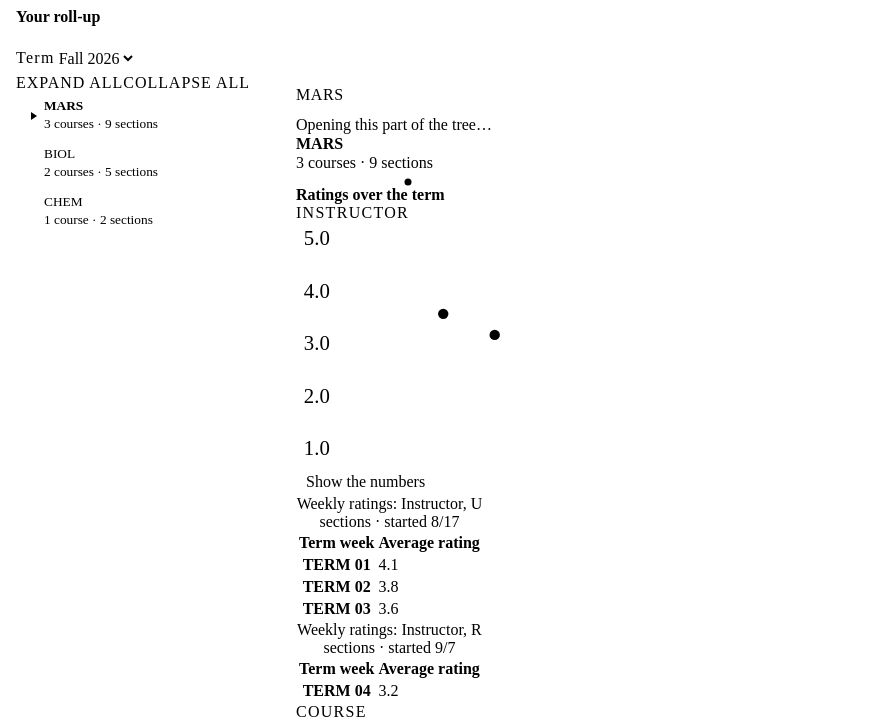
/leadership, the roll-up › keeps one figures status region mounted across choices, and announces the read in it
The width and height of the screenshot is (882, 721).
Expected: the message "Opening this part of the tree…" is shown, [296, 116, 492, 133]
Click the button "CHEM 1 course · 2 sections". click: (98, 212)
box: [44, 194, 153, 230]
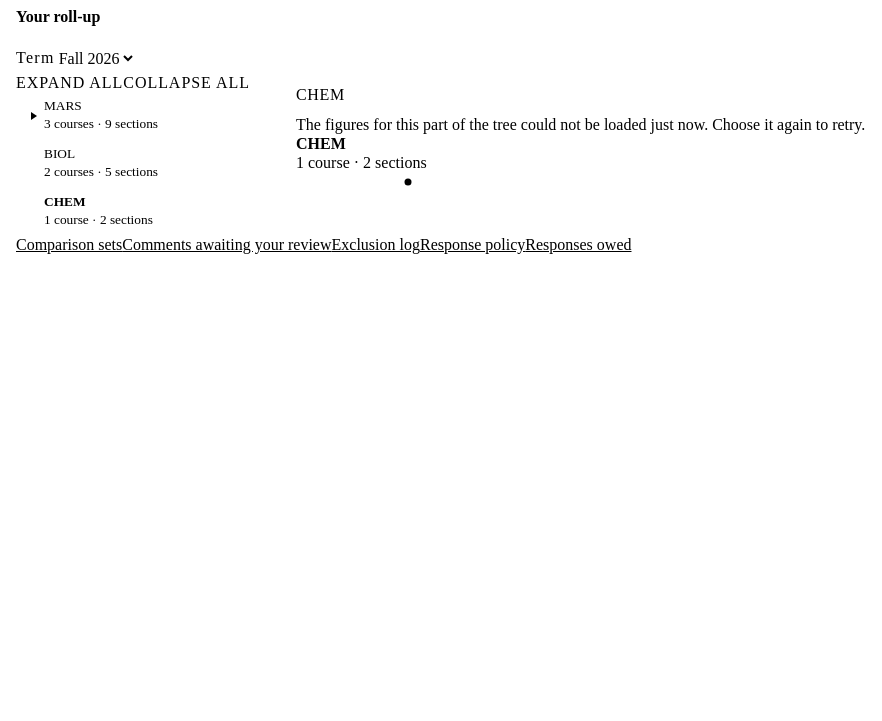
Result: the 2nd message shows "The figures for this part of the tree could not be loaded just now. Choose it again to retry." at [296, 116, 865, 133]
